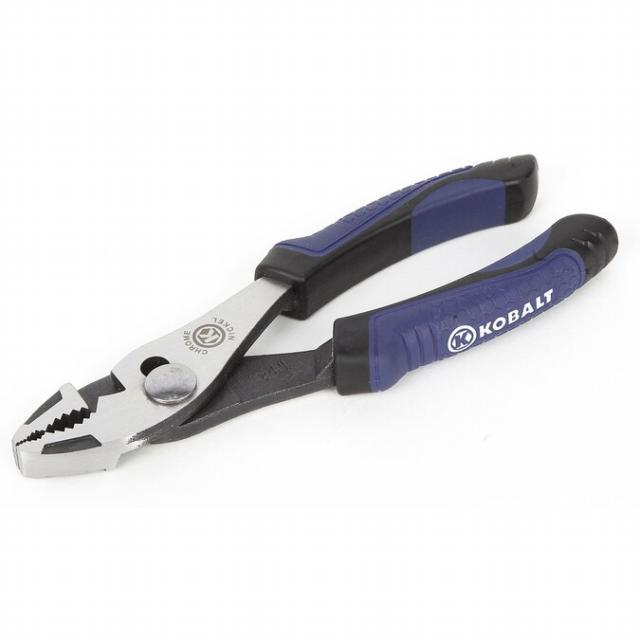pliers: (5, 142, 628, 486)
